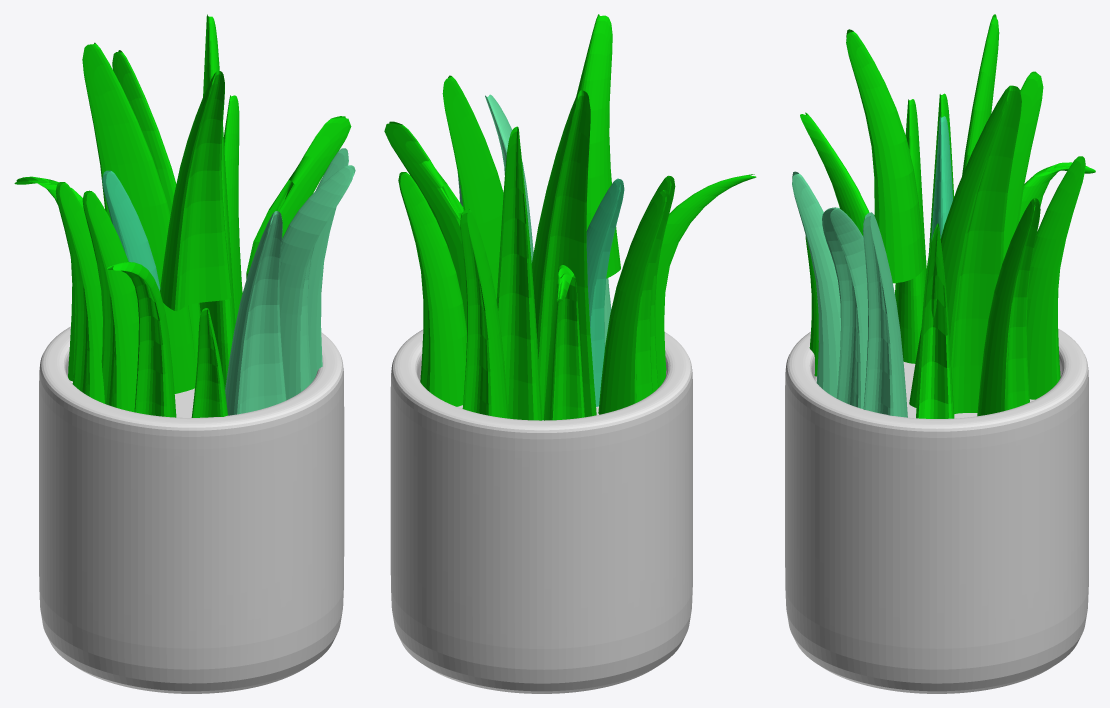
Rendered from Plant1.fbx.
3 views of the same model, side by side, from view 1: azimuth 30°, elevation 25°; view 2: azimuth 150°, elevation 25°; view 3: azimuth 270°, elevation 25° (orthographic).
Visible parts, largest first — view 1: Pot; view 2: Pot; view 3: Pot.
Part boxes in pixels (bbox=[...]): Pot: bbox=[14, 14, 355, 693]; Pot: bbox=[384, 14, 756, 693]; Pot: bbox=[785, 14, 1095, 693].
Size of the model in its own units: 27.7 by 51.92 by 24.3.
